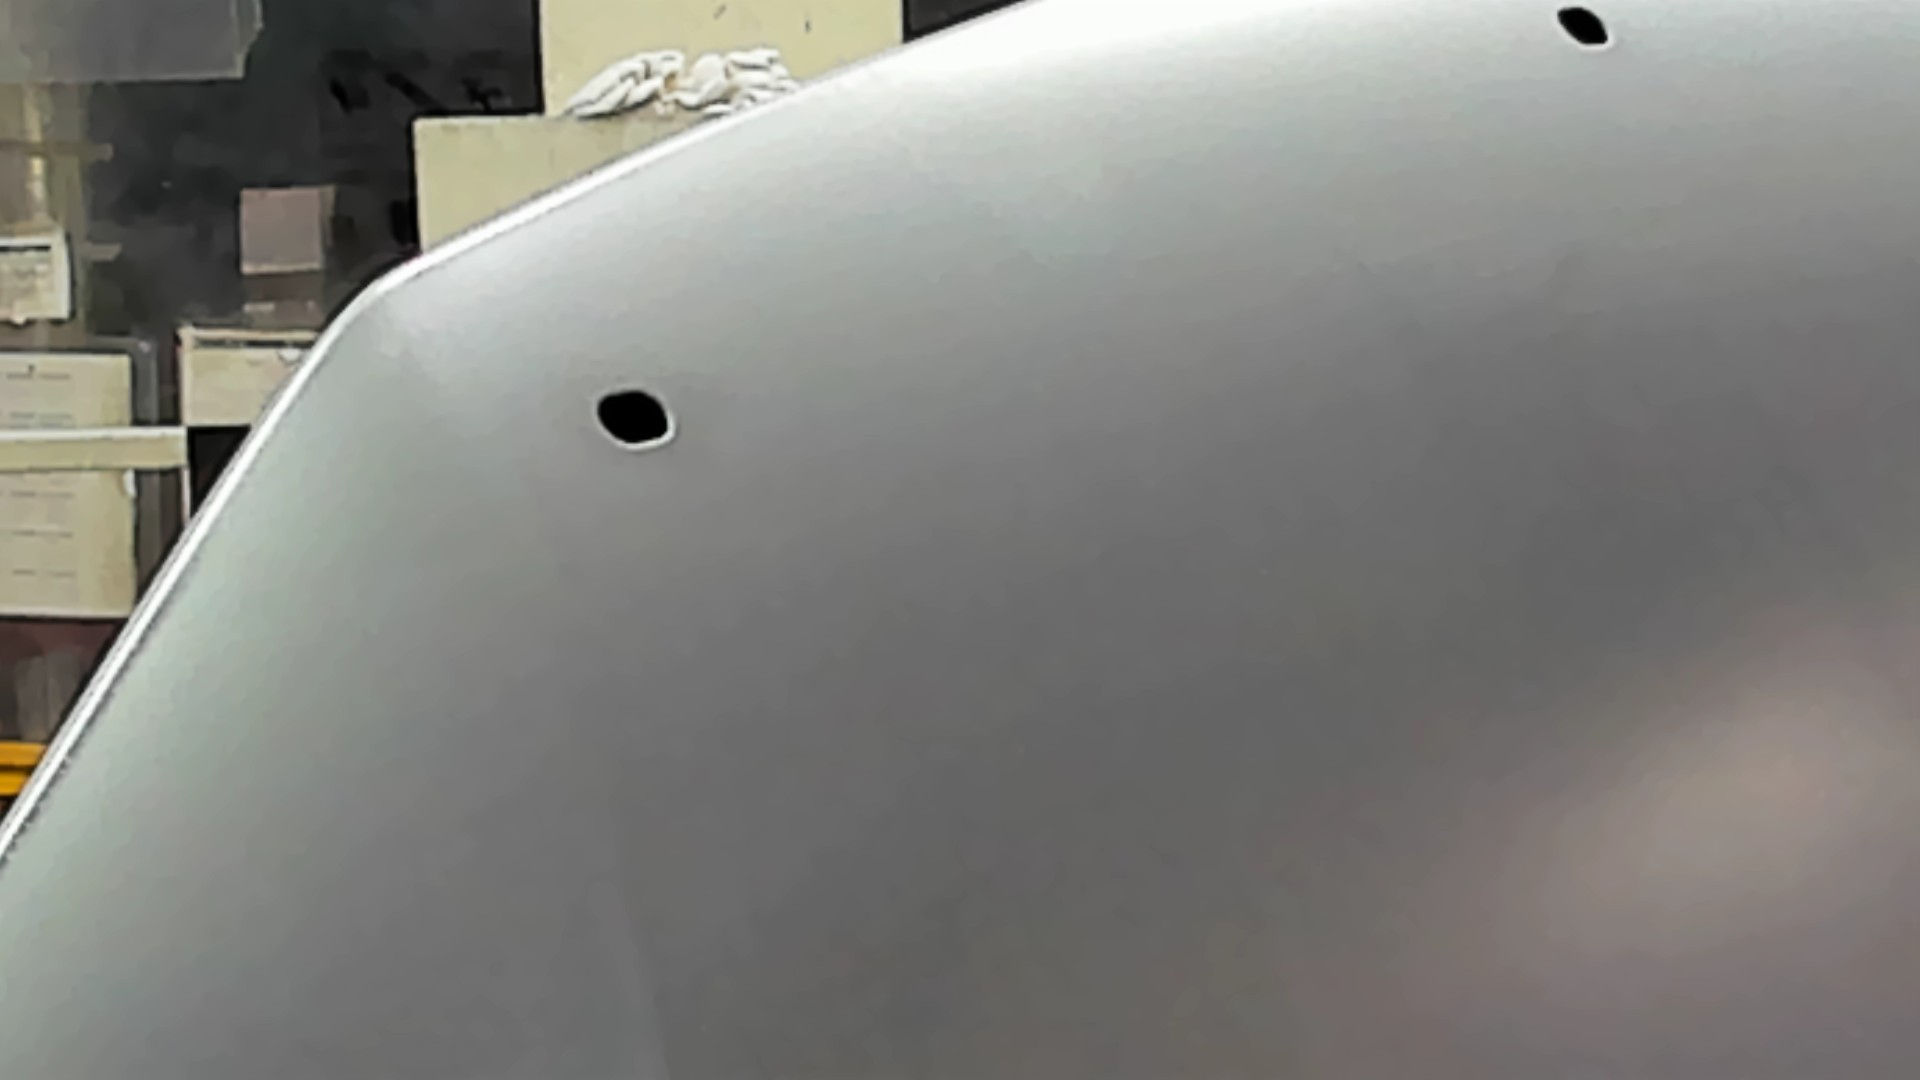amorfo: (582, 381, 684, 456), (1548, 1, 1623, 61)
capo: (789, 123, 1920, 1080)
